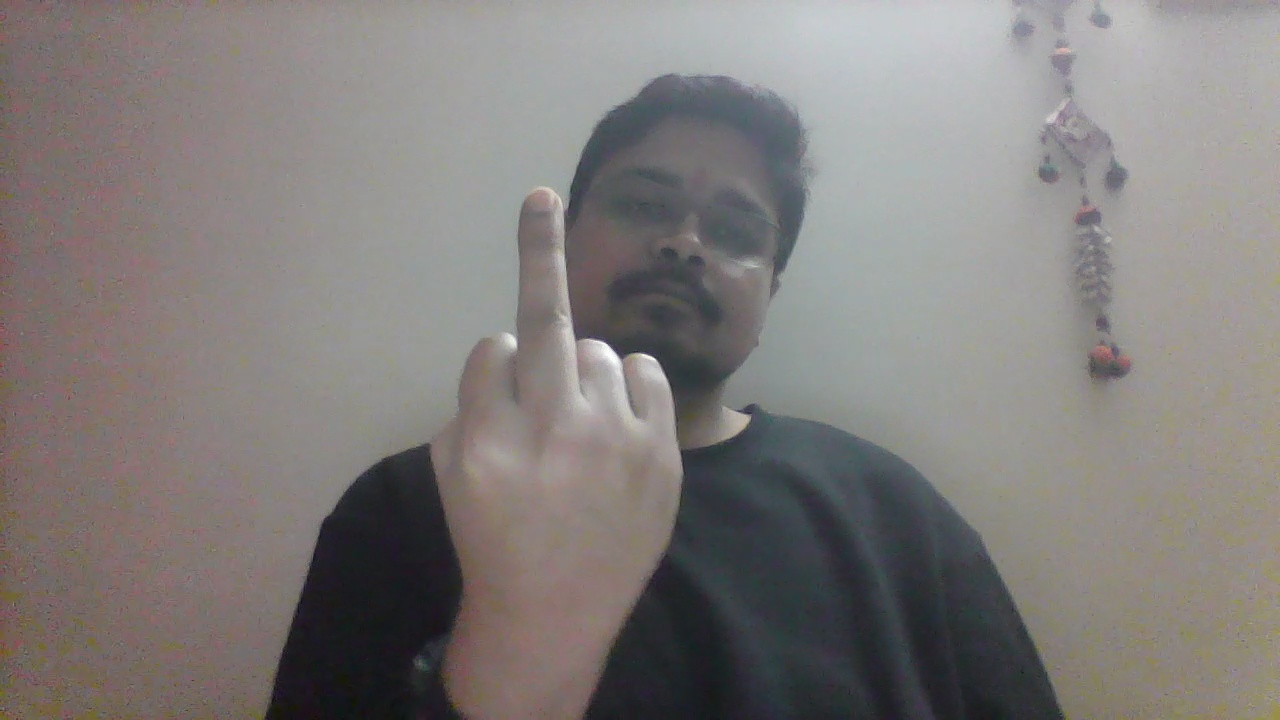Fuck Off: (435, 182, 684, 711)
